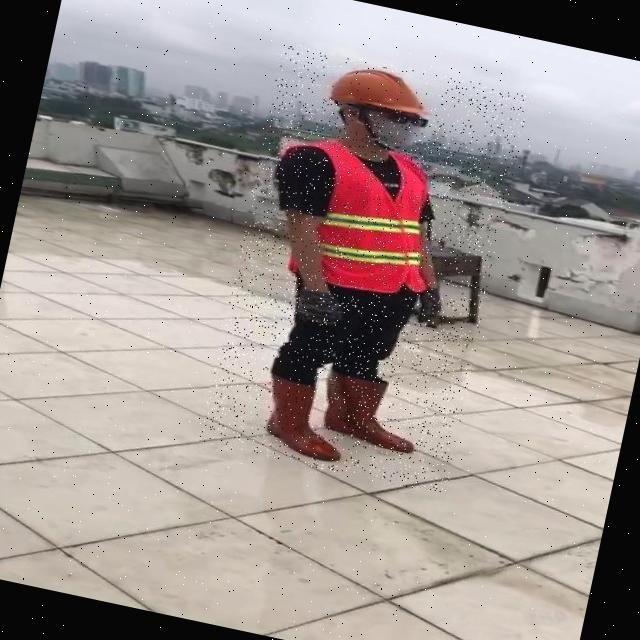boots: (240, 366, 359, 467), (320, 366, 430, 455)
helmet: (322, 56, 441, 121)
vest: (266, 140, 448, 304)
